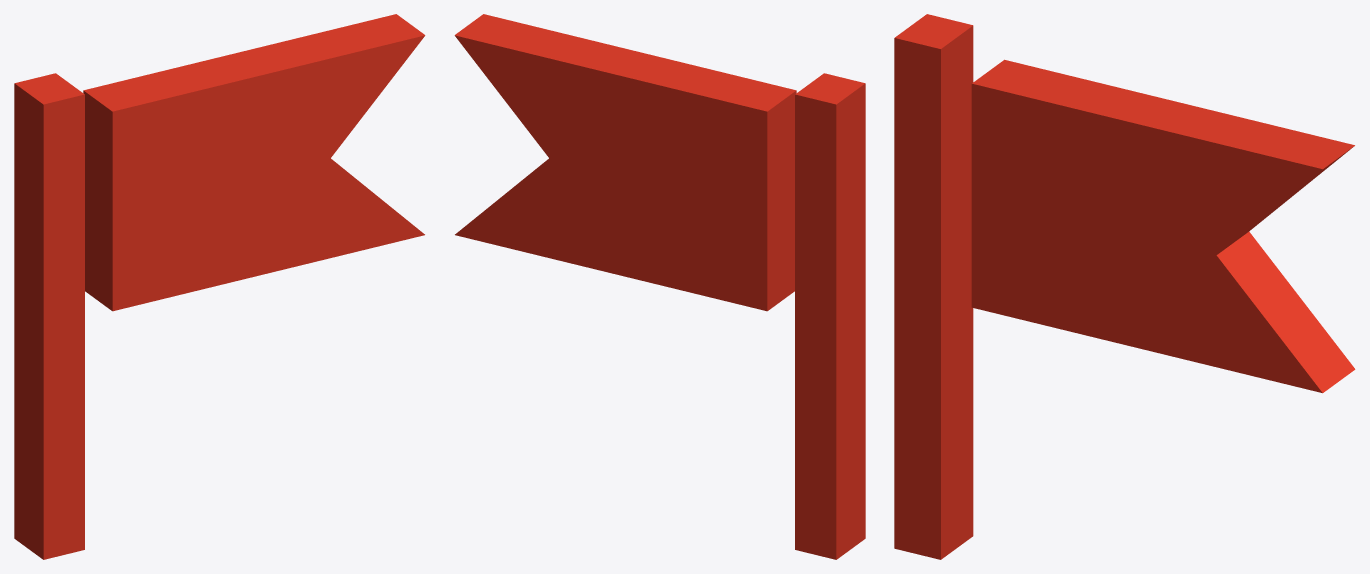
File: Icon_Flag_03.fbx
3 views of the same model, side by side, from view 1: azimuth 30°, elevation 25°; view 2: azimuth 150°, elevation 25°; view 3: azimuth 330°, elevation 25° (orthographic). The views are drawn at different scales.
Parts seen in each view (by area): view 1: Icon_Flag_03; view 2: Icon_Flag_03; view 3: Icon_Flag_03.
Part boxes in pixels (x1,y1,x2,y2): Icon_Flag_03: (14, 14, 425, 559); Icon_Flag_03: (454, 14, 865, 559); Icon_Flag_03: (894, 14, 1355, 559).
Bounding box in the file's own units: 62.49 × 71.19 × 8.25.
